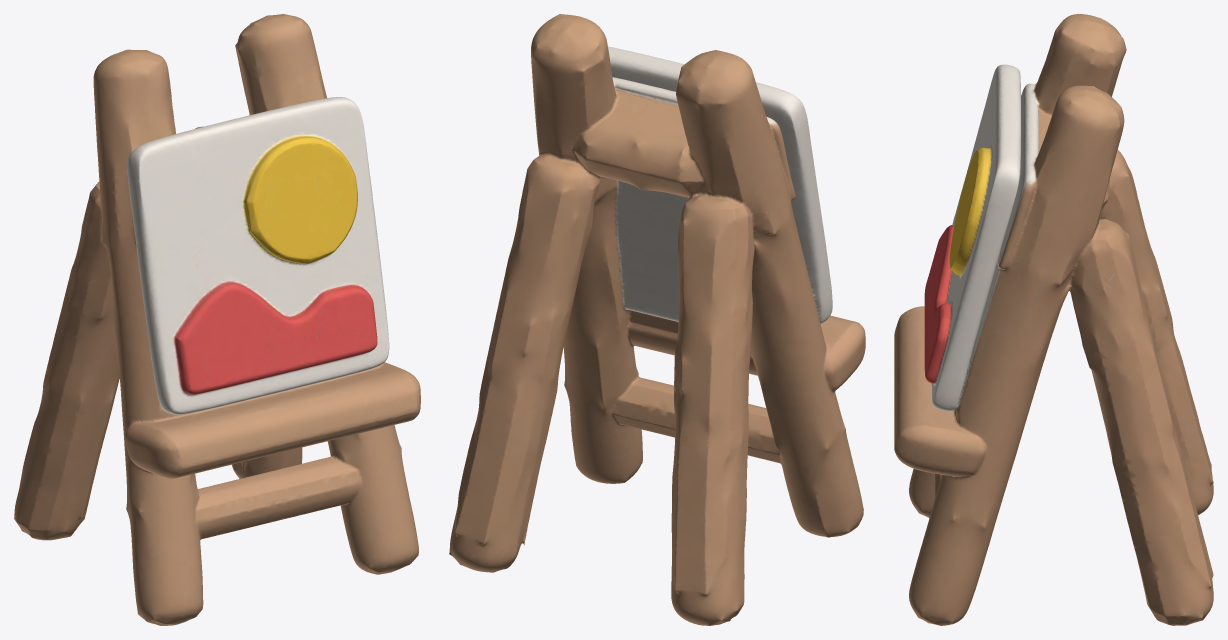
File: easel.glb
3 views of the same model, side by side, from view 1: azimuth 30°, elevation 25°; view 2: azimuth 150°, elevation 25°; view 3: azimuth 270°, elevation 25° (orthographic). The views are drawn at different scales.
Bounding box in the file's own units: 1.08 × 1.89 × 1.06.
Materials: 1 (1 with a texture image).
